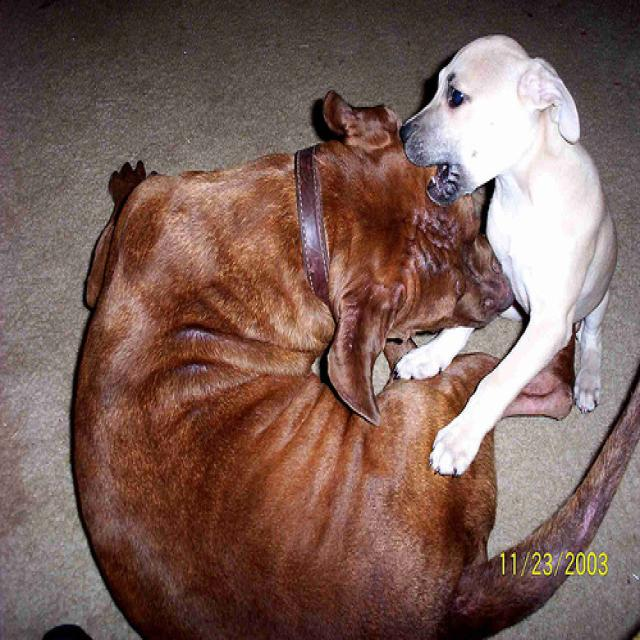dog: (71, 88, 640, 640), (390, 34, 619, 486)
